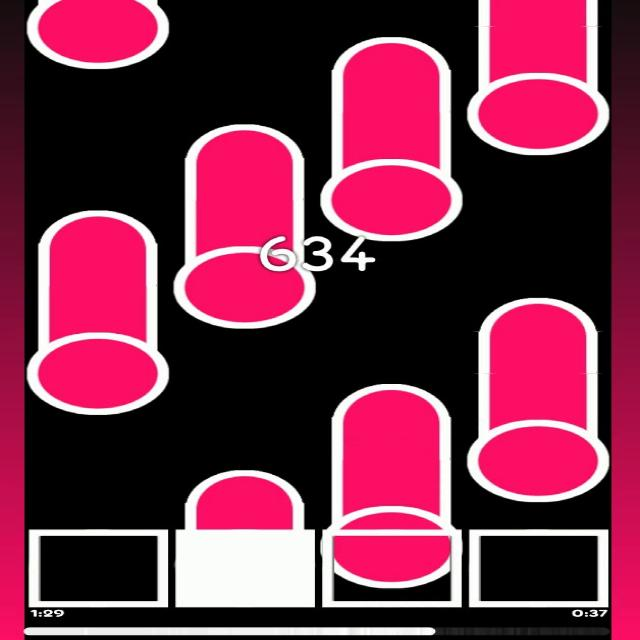end_hold: (36, 203, 165, 251), (331, 373, 452, 421), (476, 290, 600, 334), (182, 117, 309, 159), (184, 461, 302, 504), (326, 31, 450, 68)
start_hold: (174, 234, 318, 329), (469, 60, 611, 156), (28, 322, 170, 416), (467, 411, 613, 502), (317, 150, 463, 241), (323, 506, 462, 588), (26, 0, 170, 69)
